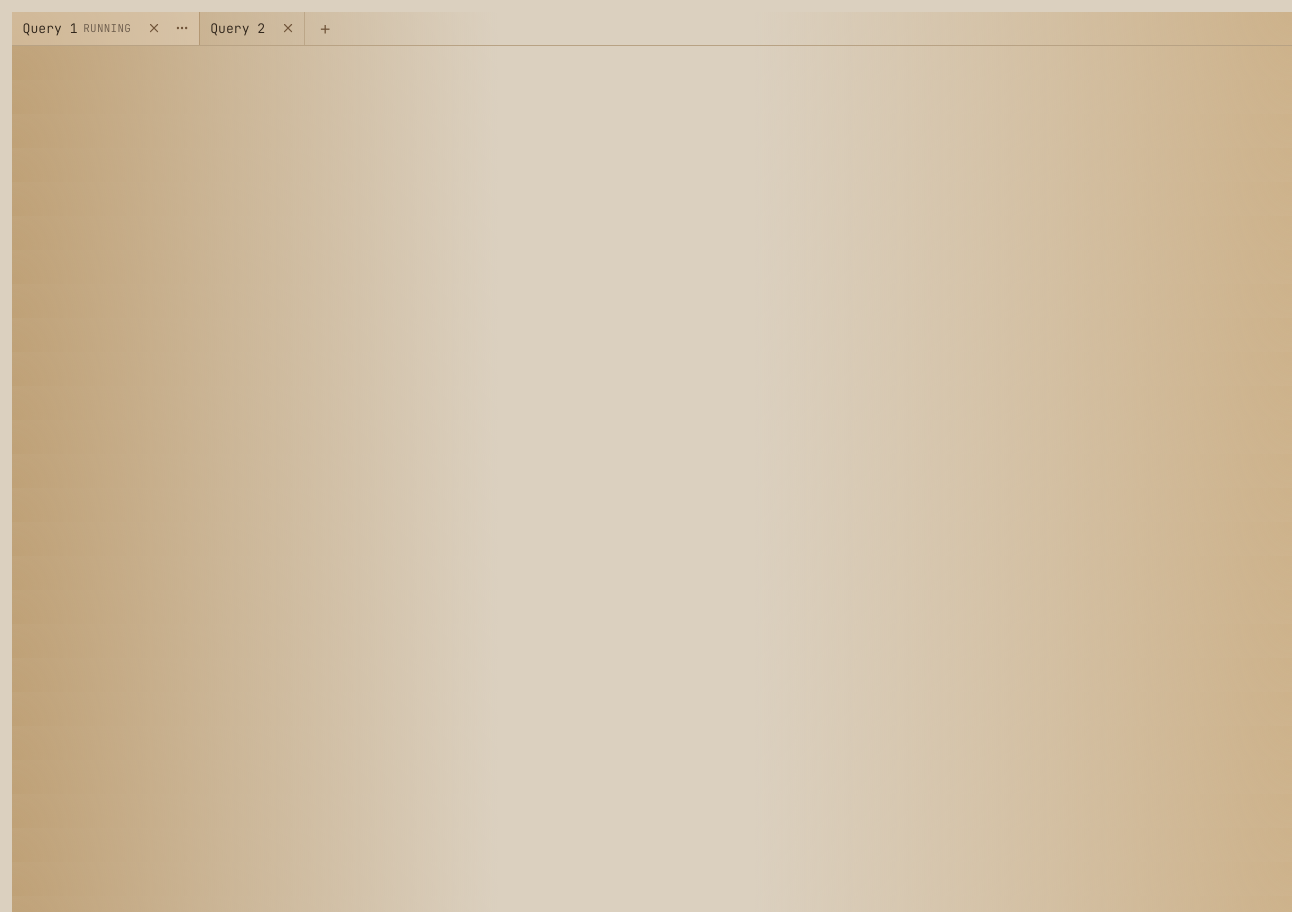
Scenario: QueryTabsBar › routes rename and duplicate actions for the active tab
The image size is (1292, 912).
Click the button named "Tab actions".
click(182, 28)  # box [169,15,195,41]
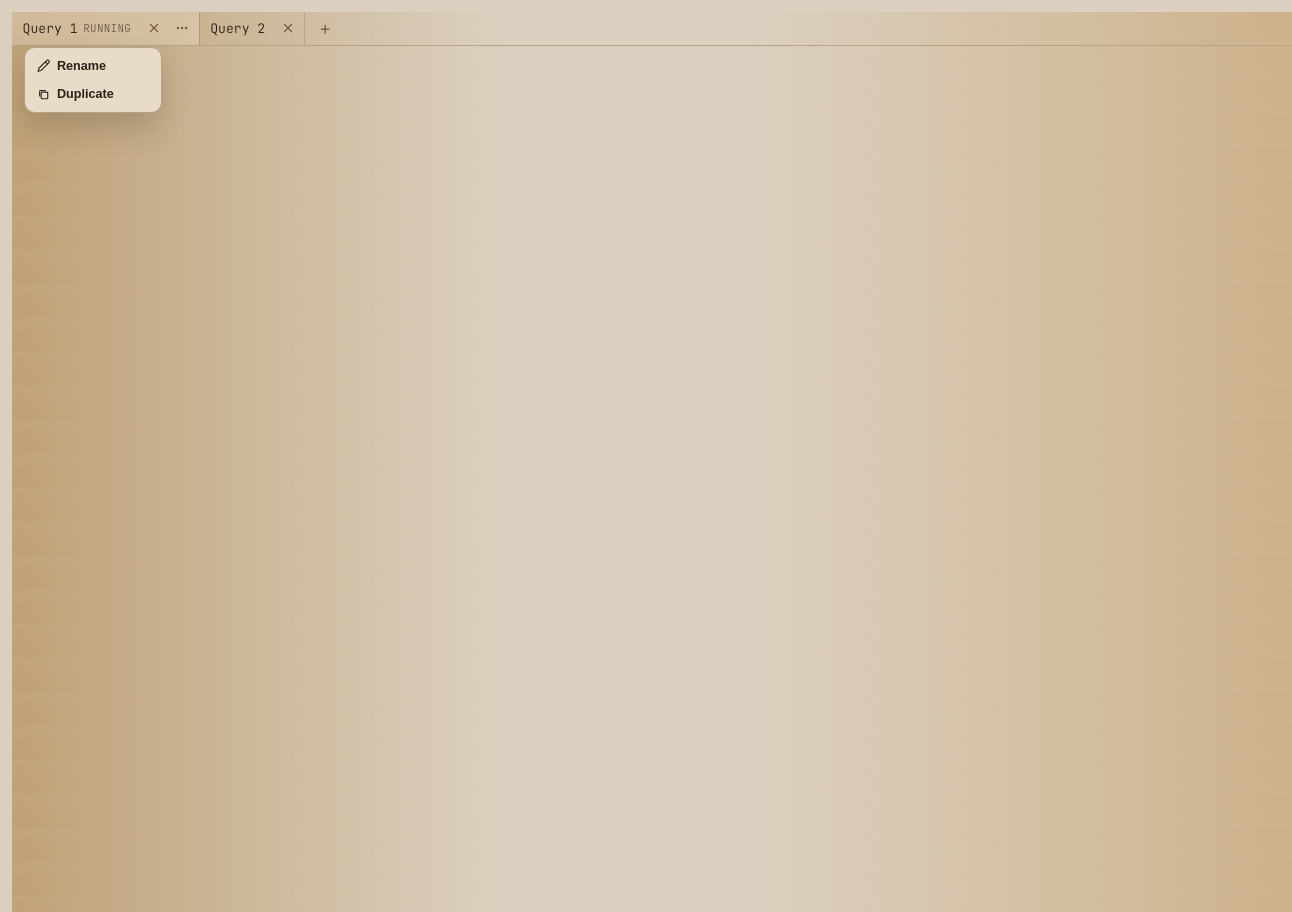
Result: the menu is shown at [24,47,162,113]
Click the menu item "Rename".
click(93, 66)  # box [30,53,157,79]
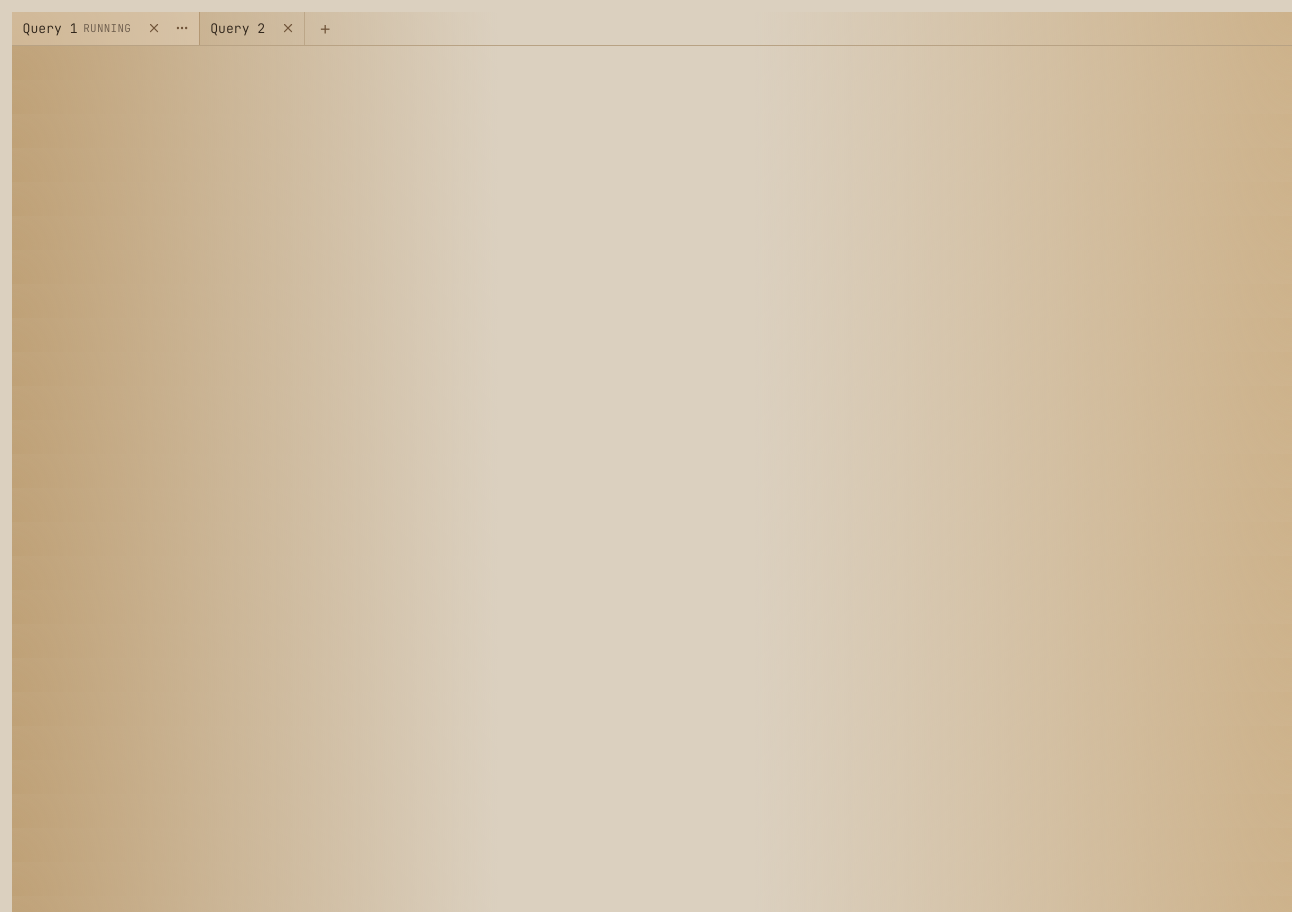
Result: the menu is gone
Click the button named "Tab actions".
click(182, 28)  # box [169,15,195,41]
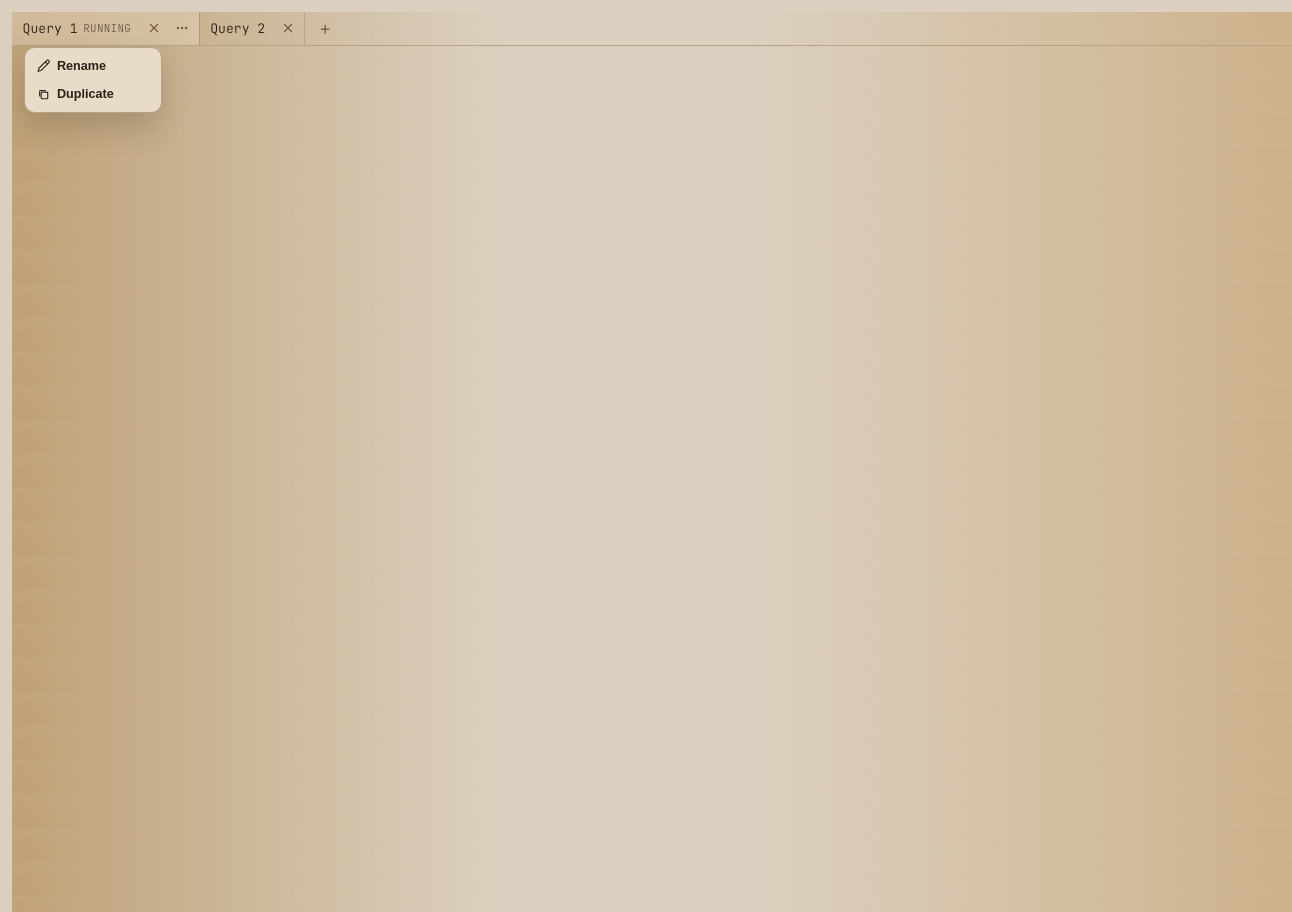
Click the menu item "Duplicate".
click(93, 94)  # box [30,82,157,107]
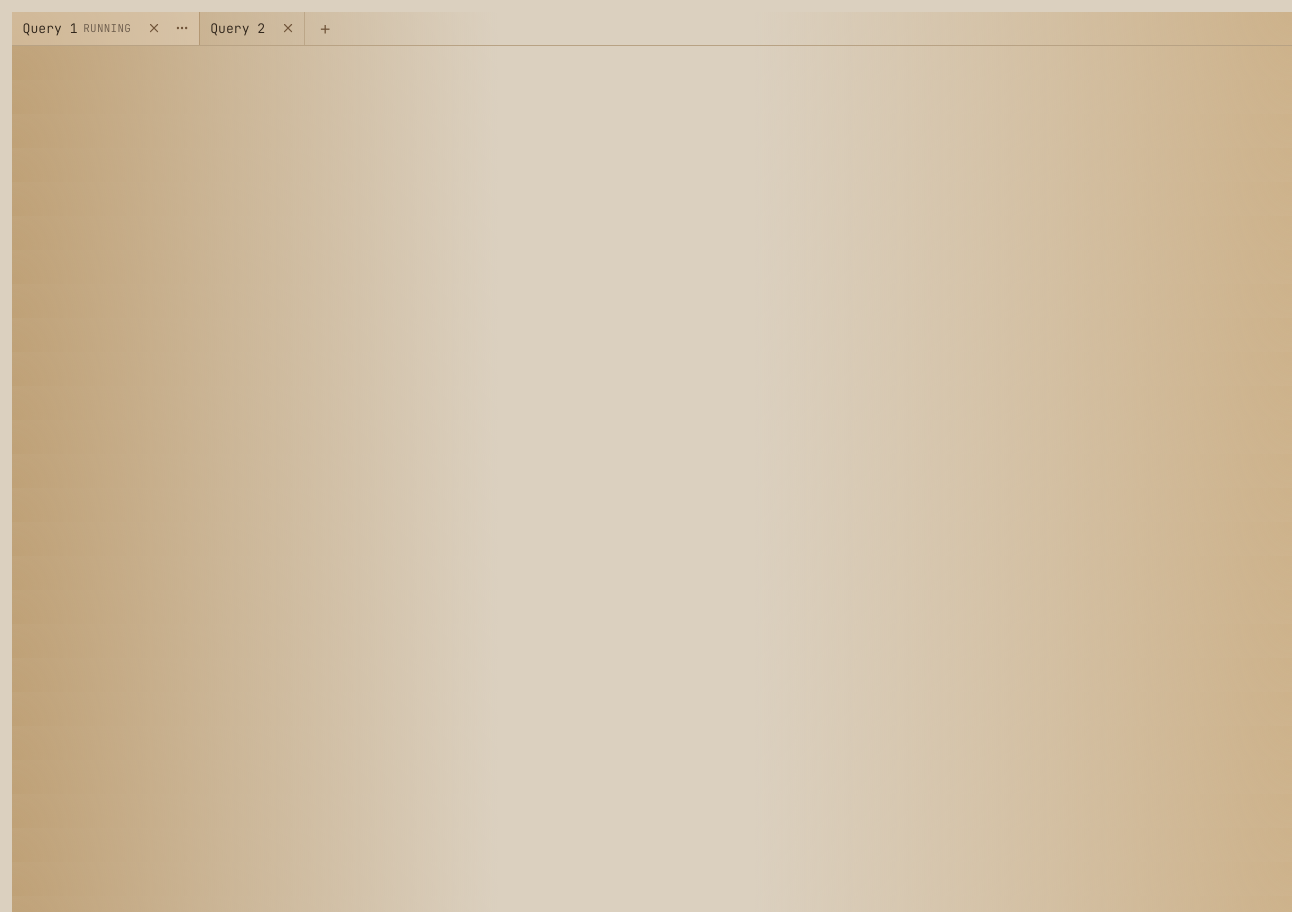
Result: the menu is gone
